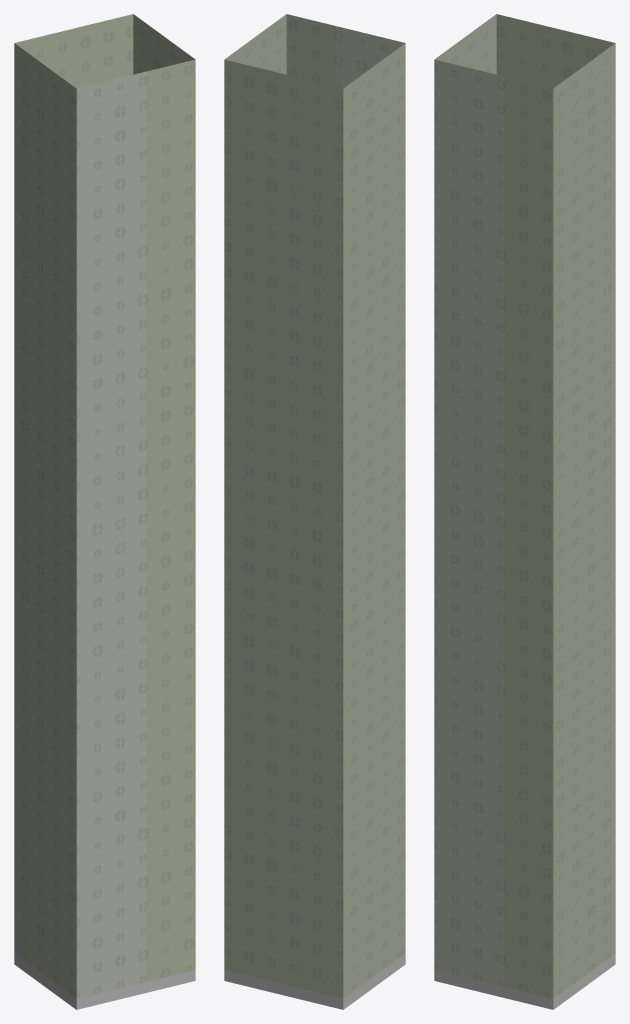
3 renders of one model, left to right at view 1: azimuth 30°, elevation 25°; view 2: azimuth 150°, elevation 25°; view 3: azimuth 330°, elevation 25°, orthographic.
Visible parts, largest first — view 1: Mesh (61); view 2: Mesh (61); view 3: Mesh (61).
Part boxes in pixels (bbox=[...]): Mesh (61): bbox=[14, 14, 195, 1009]; Mesh (61): bbox=[224, 14, 405, 1009]; Mesh (61): bbox=[434, 14, 615, 1009].
Bounding box in the file's own units: 47.09 × 348 × 42.6.
